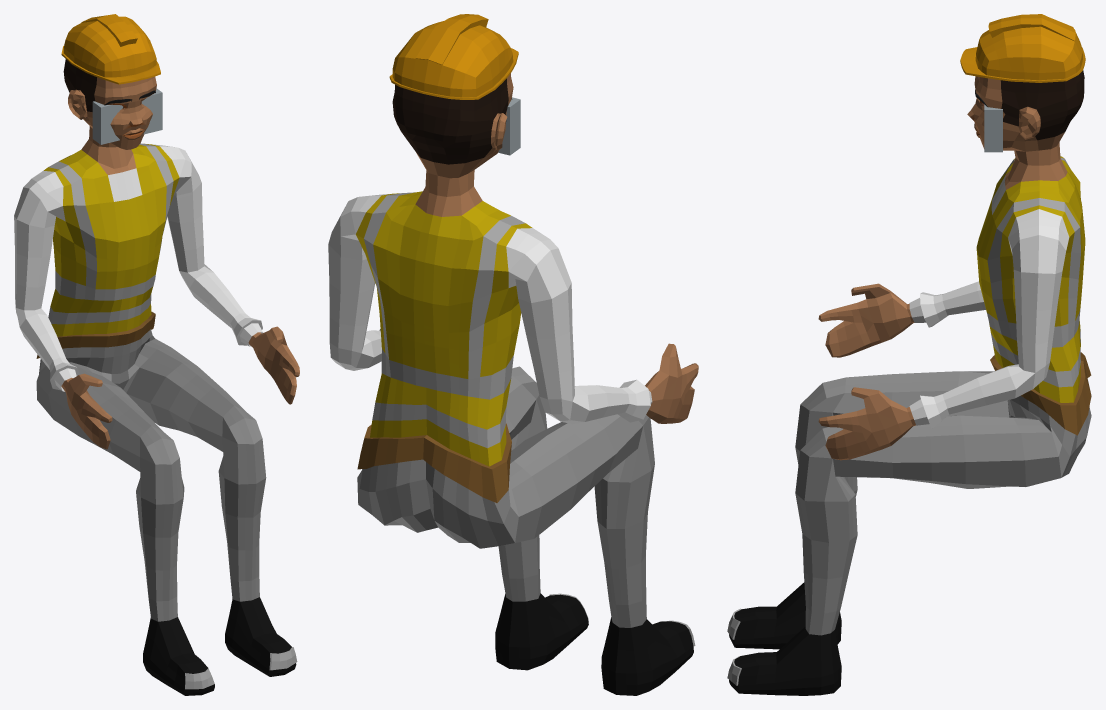
Rendered from Engineer_Sit_Mask.fbx.
The picture shows the model from 3 angles, left to right: view 1: azimuth 30°, elevation 25°; view 2: azimuth 150°, elevation 25°; view 3: azimuth 270°, elevation 25°; orthographic projection. The views are drawn at different scales.
Parts seen in each view (by area): view 1: Engineer_Sit_Mask; view 2: Engineer_Sit_Mask; view 3: Engineer_Sit_Mask.
Boxes of the visible parts, x1,y1,x2,y2 form: Engineer_Sit_Mask: (14,14,299,695); Engineer_Sit_Mask: (328,14,698,695); Engineer_Sit_Mask: (727,14,1091,695).
Bounding box in the file's own units: 0.3284 × 0.8388 × 0.4291.
